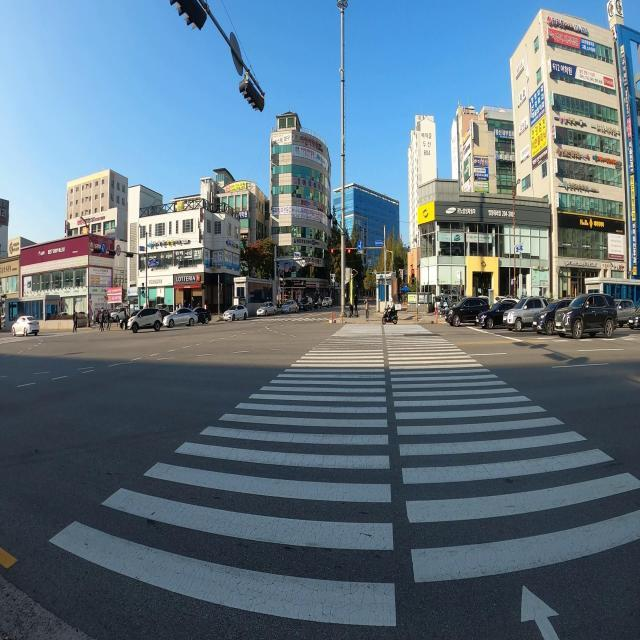crosswalk: (27, 319, 639, 637), (0, 330, 94, 345), (221, 317, 335, 323), (354, 304, 376, 308)
